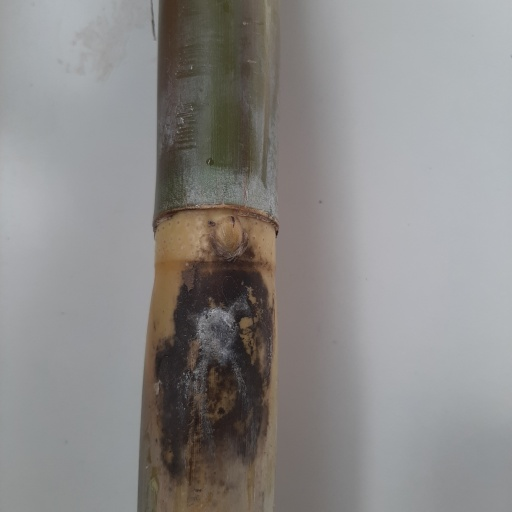Bud: (213, 214, 243, 259)
